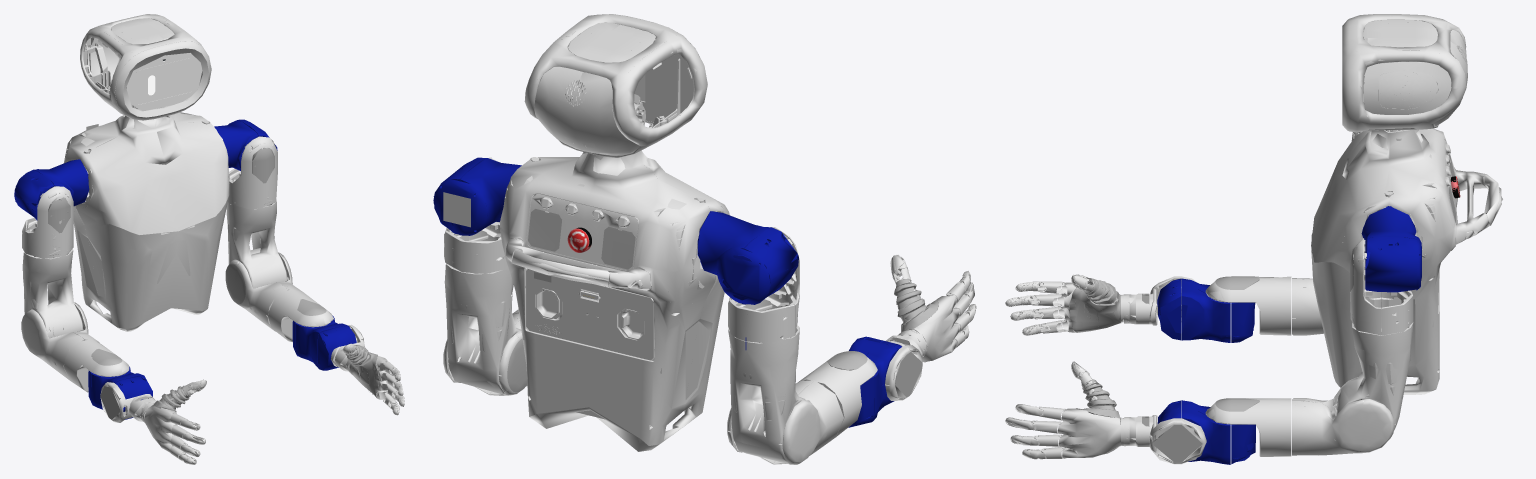
Rendered from rp1-upper-body-web.glb.
3 views of the same model, side by side, from view 1: azimuth 30°, elevation 25°; view 2: azimuth 150°, elevation 25°; view 3: azimuth 270°, elevation 25° (orthographic). The views are drawn at different scales.
Visible parts, largest first — view 1: Plane.002, hand-1.007; view 2: Plane.002, hand-1.007; view 3: Plane.002, hand-1.007.
Boxes of the visible parts, x1,y1,x2,y2 form: Plane.002: (14, 14, 404, 463); hand-1.007: (142, 343, 404, 464); Plane.002: (433, 14, 975, 464); hand-1.007: (890, 255, 976, 356); Plane.002: (1005, 14, 1502, 464); hand-1.007: (1005, 274, 1129, 459).
Size of the model in its own units: 0.448 by 0.5085 by 0.6516.
Materials: 6 (6 with a texture image).
